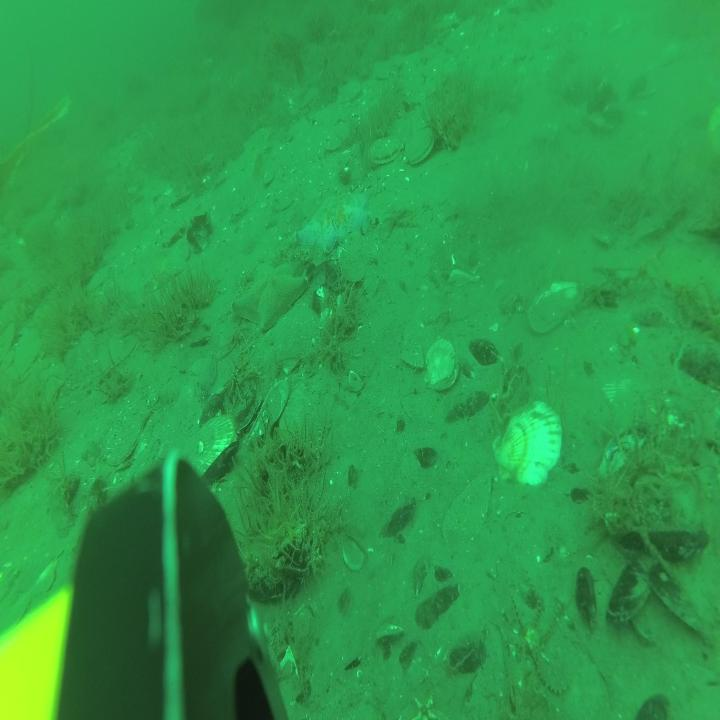scallop: (491, 404, 560, 486), (183, 418, 237, 487), (106, 402, 150, 466), (528, 280, 584, 330), (424, 338, 458, 391), (406, 125, 434, 166), (369, 135, 402, 164)
starfish: (232, 263, 308, 328), (296, 191, 372, 246)
